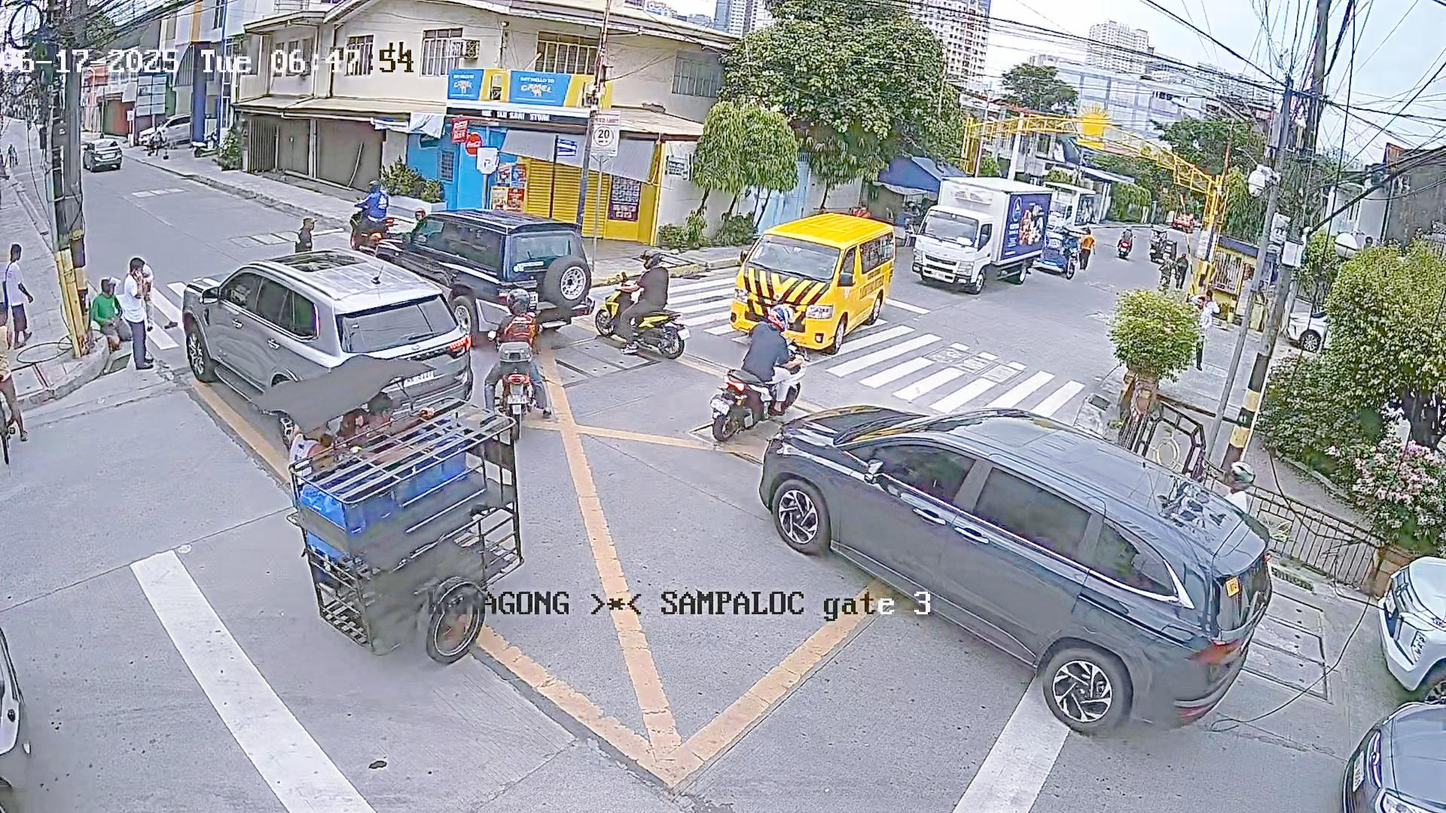Car: (759, 399, 1294, 735), (175, 241, 481, 453), (343, 182, 618, 335), (702, 207, 925, 359), (901, 157, 1048, 313)
Motor: (468, 276, 602, 450), (697, 301, 813, 474), (596, 241, 694, 387)
